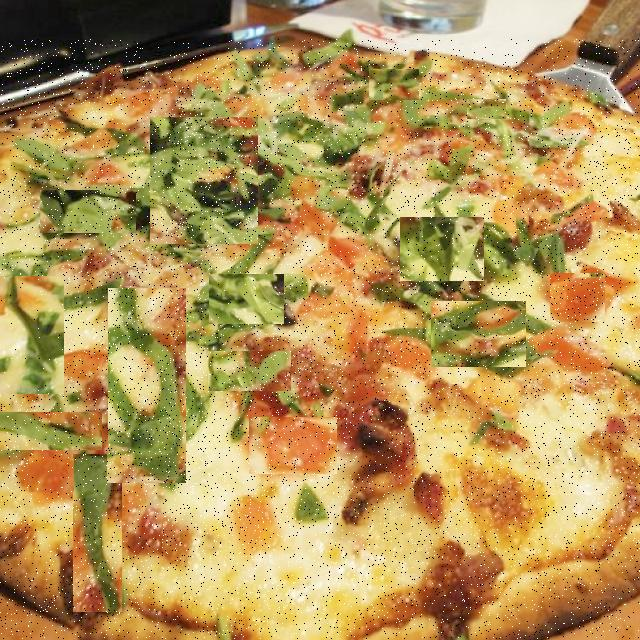Basil: (108, 288, 186, 483), (150, 117, 258, 244), (74, 454, 124, 612), (0, 276, 64, 394), (431, 301, 526, 367), (400, 217, 484, 281), (40, 190, 136, 233), (0, 412, 102, 450), (209, 274, 284, 324), (208, 351, 291, 391), (369, 70, 419, 102), (467, 99, 506, 119)
Pizza: (0, 39, 640, 640)
Tomato: (249, 418, 337, 476), (550, 273, 605, 322), (29, 458, 74, 492)
